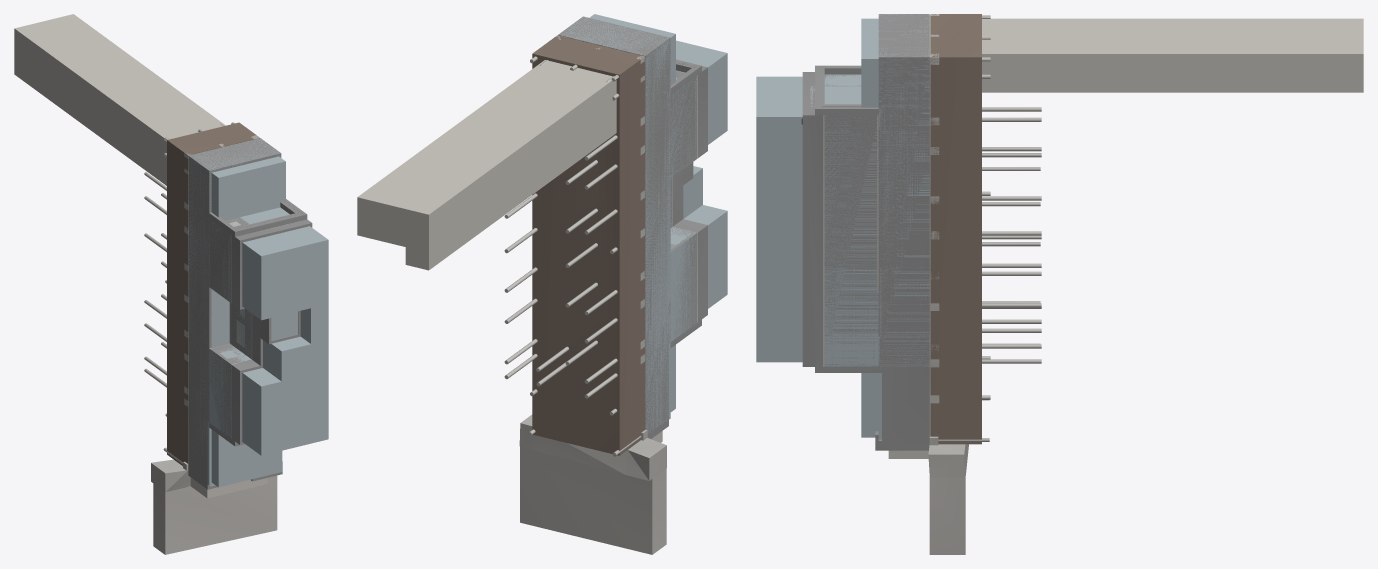
The model's file is residencial_definitivo.glb.
The picture shows the model from 3 angles, left to right: view 1: azimuth 30°, elevation 25°; view 2: azimuth 150°, elevation 25°; view 3: azimuth 270°, elevation 25°; orthographic projection. The views are drawn at different scales.
Visible parts, largest first — view 1: telhado_glass, base_glass, base_default, meio_glass, telhado_default, meio_default, base_concrete; view 2: base_default, base_glass, meio_glass, meio_default, telhado_glass, base_concrete, telhado_default; view 3: base_glass, base_default, telhado_glass, telhado_default, meio_default, base_concrete, meio_glass.
Boxes of the visible parts, x1,y1,x2,y2 form: telhado_glass: [209, 207, 328, 455]; base_glass: [14, 14, 267, 498]; base_default: [153, 122, 277, 554]; meio_glass: [188, 138, 285, 487]; telhado_default: [207, 199, 312, 446]; meio_default: [188, 138, 282, 488]; base_concrete: [144, 122, 259, 492]; base_default: [520, 35, 668, 554]; base_glass: [357, 60, 662, 442]; meio_glass: [558, 14, 675, 432]; meio_default: [558, 16, 670, 434]; telhado_glass: [670, 40, 727, 341]; base_concrete: [504, 35, 666, 480]; telhado_default: [670, 59, 707, 347]; base_glass: [888, 18, 1363, 458]; base_default: [882, 14, 981, 554]; telhado_glass: [756, 74, 878, 366]; telhado_default: [802, 65, 881, 372]; meio_default: [801, 14, 929, 450]; base_concrete: [928, 14, 1041, 477]; meio_glass: [861, 14, 929, 439].
Bounding box in the file's own units: 9.12 × 31.5 × 35.55.
